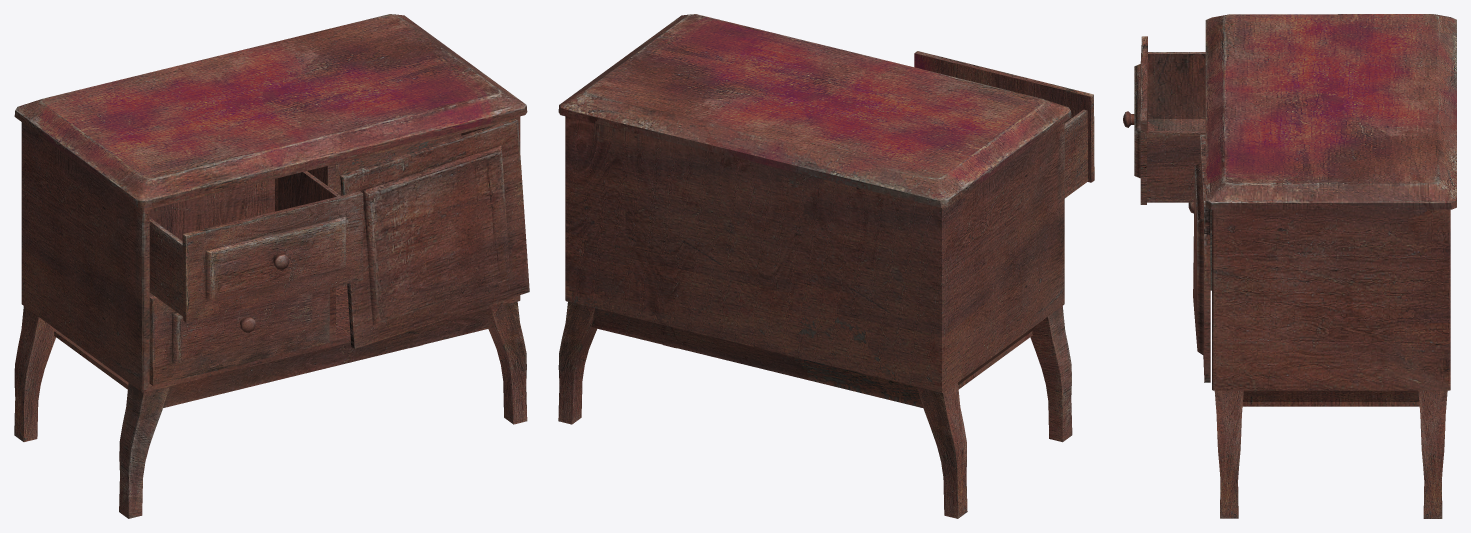
The picture shows the model from 3 angles, left to right: view 1: azimuth 30°, elevation 25°; view 2: azimuth 150°, elevation 25°; view 3: azimuth 270°, elevation 25°; orthographic projection. The views are drawn at different scales.
Visible parts, largest first — view 1: polySurface1046; view 2: polySurface1046; view 3: polySurface1046.
Part boxes in pixels (x1,y1,x2,y2): polySurface1046: (14,14,529,518); polySurface1046: (558,14,1094,518); polySurface1046: (1123,14,1456,518).
Size of the model in its own units: 5.62 by 4.46 by 4.16.
1 material, 1 textured.
